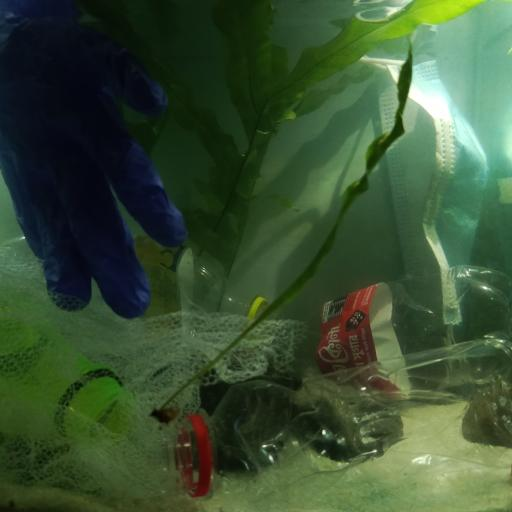glove: (1, 3, 186, 320)
mask: (374, 51, 490, 332)
net: (0, 249, 312, 500)
plastic_bottle: (164, 329, 512, 499), (286, 264, 512, 405), (2, 225, 273, 332), (0, 277, 137, 446)
